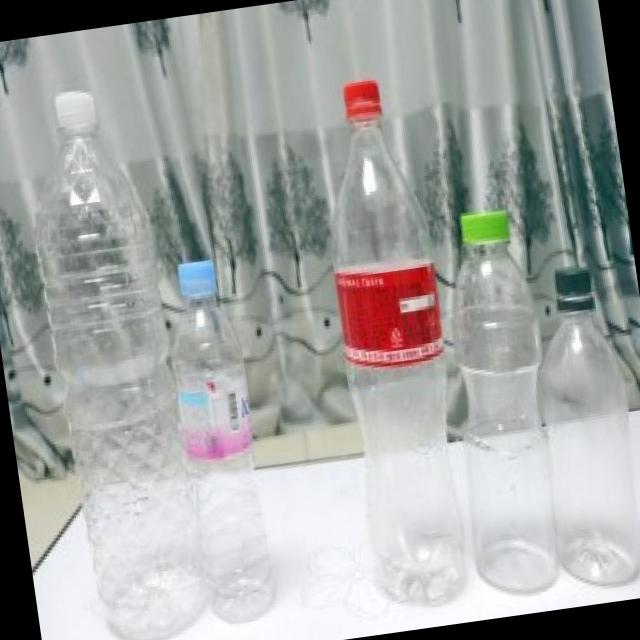plastic_bottle: (17, 82, 210, 640), (308, 73, 482, 612), (427, 208, 576, 602), (160, 256, 284, 624), (520, 264, 640, 592)
